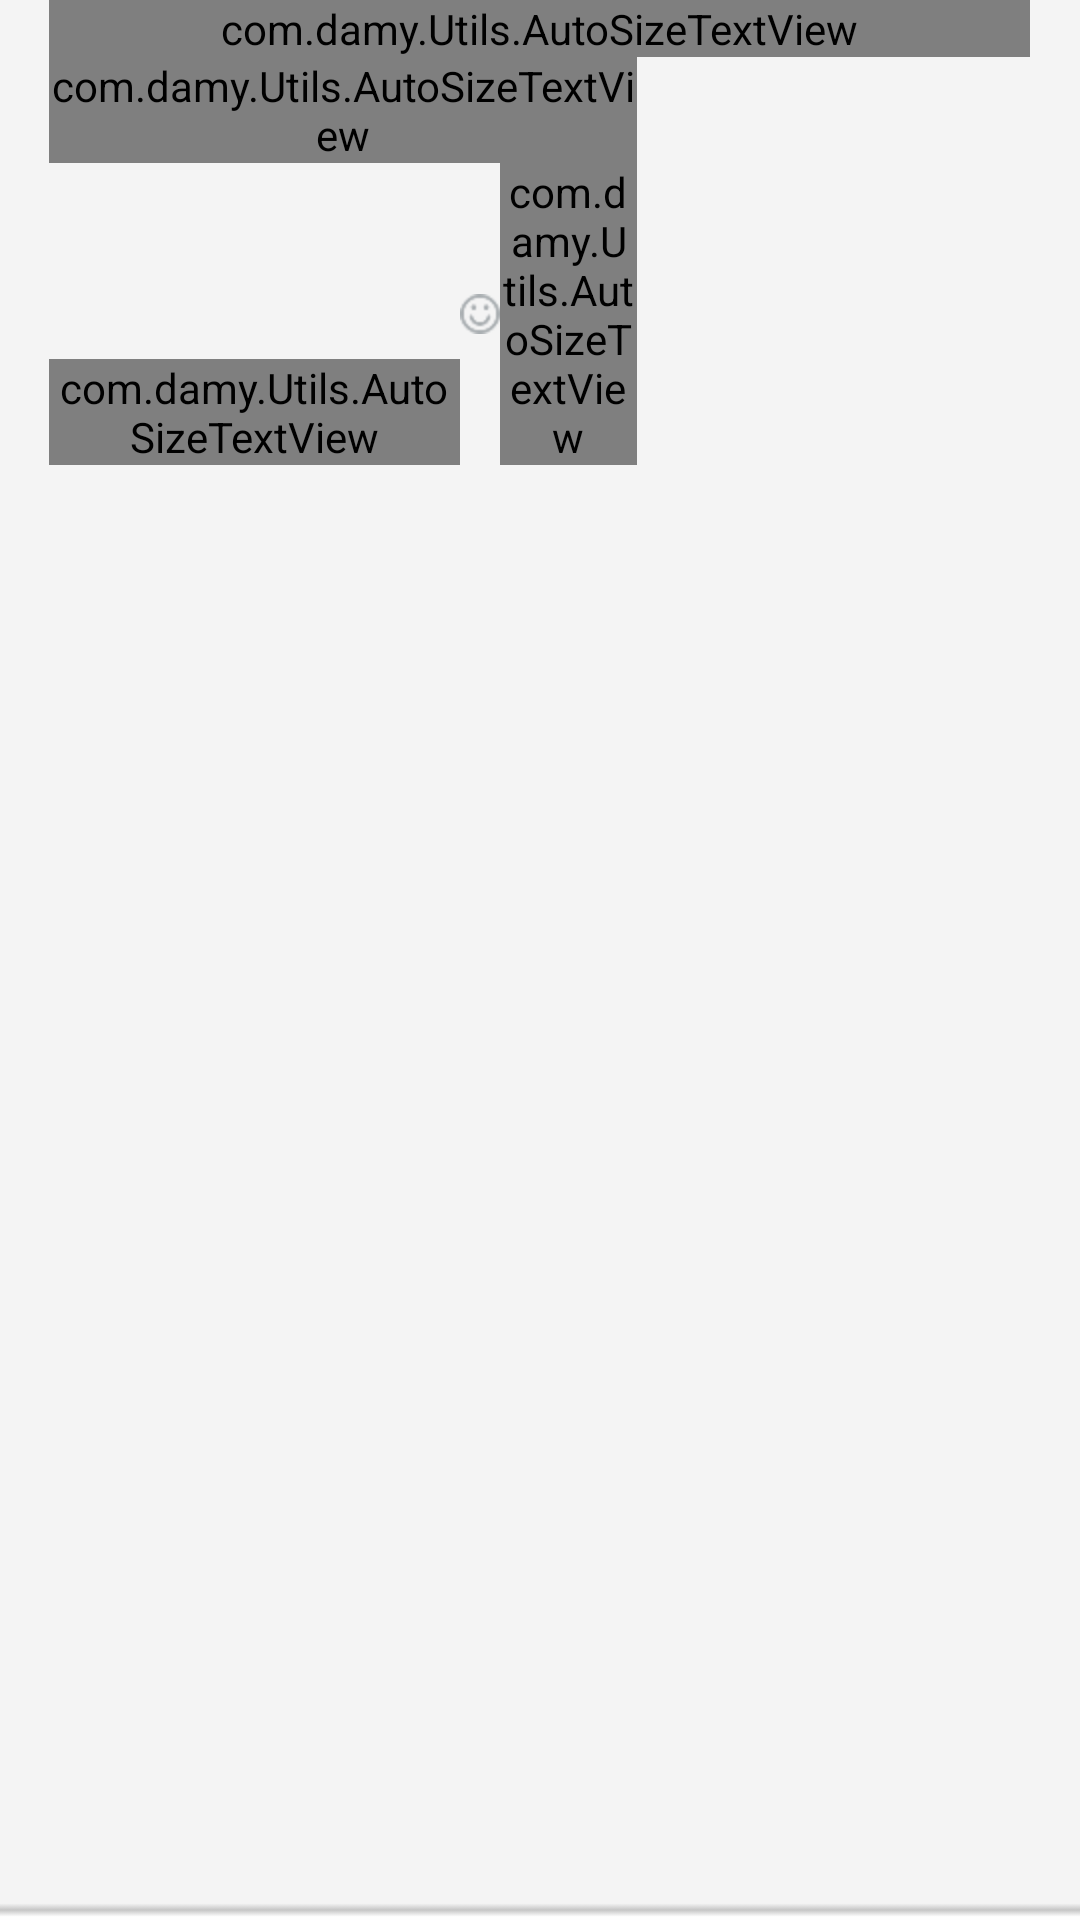

Where icons sit on this 1080x1920 app screen, as (x1, y1, x2, y2):
smileface: (460, 294, 500, 334)
